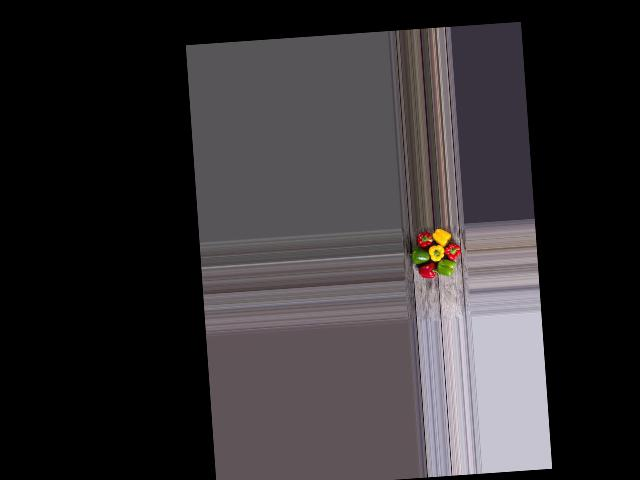bell_pepper: (416, 227, 436, 248)
